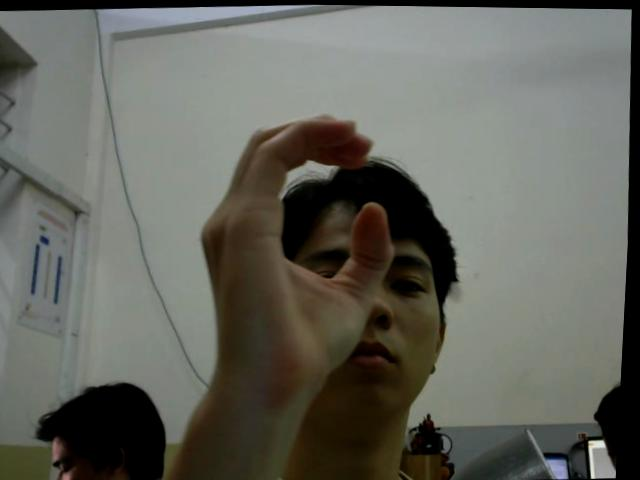C: (189, 105, 410, 389)
